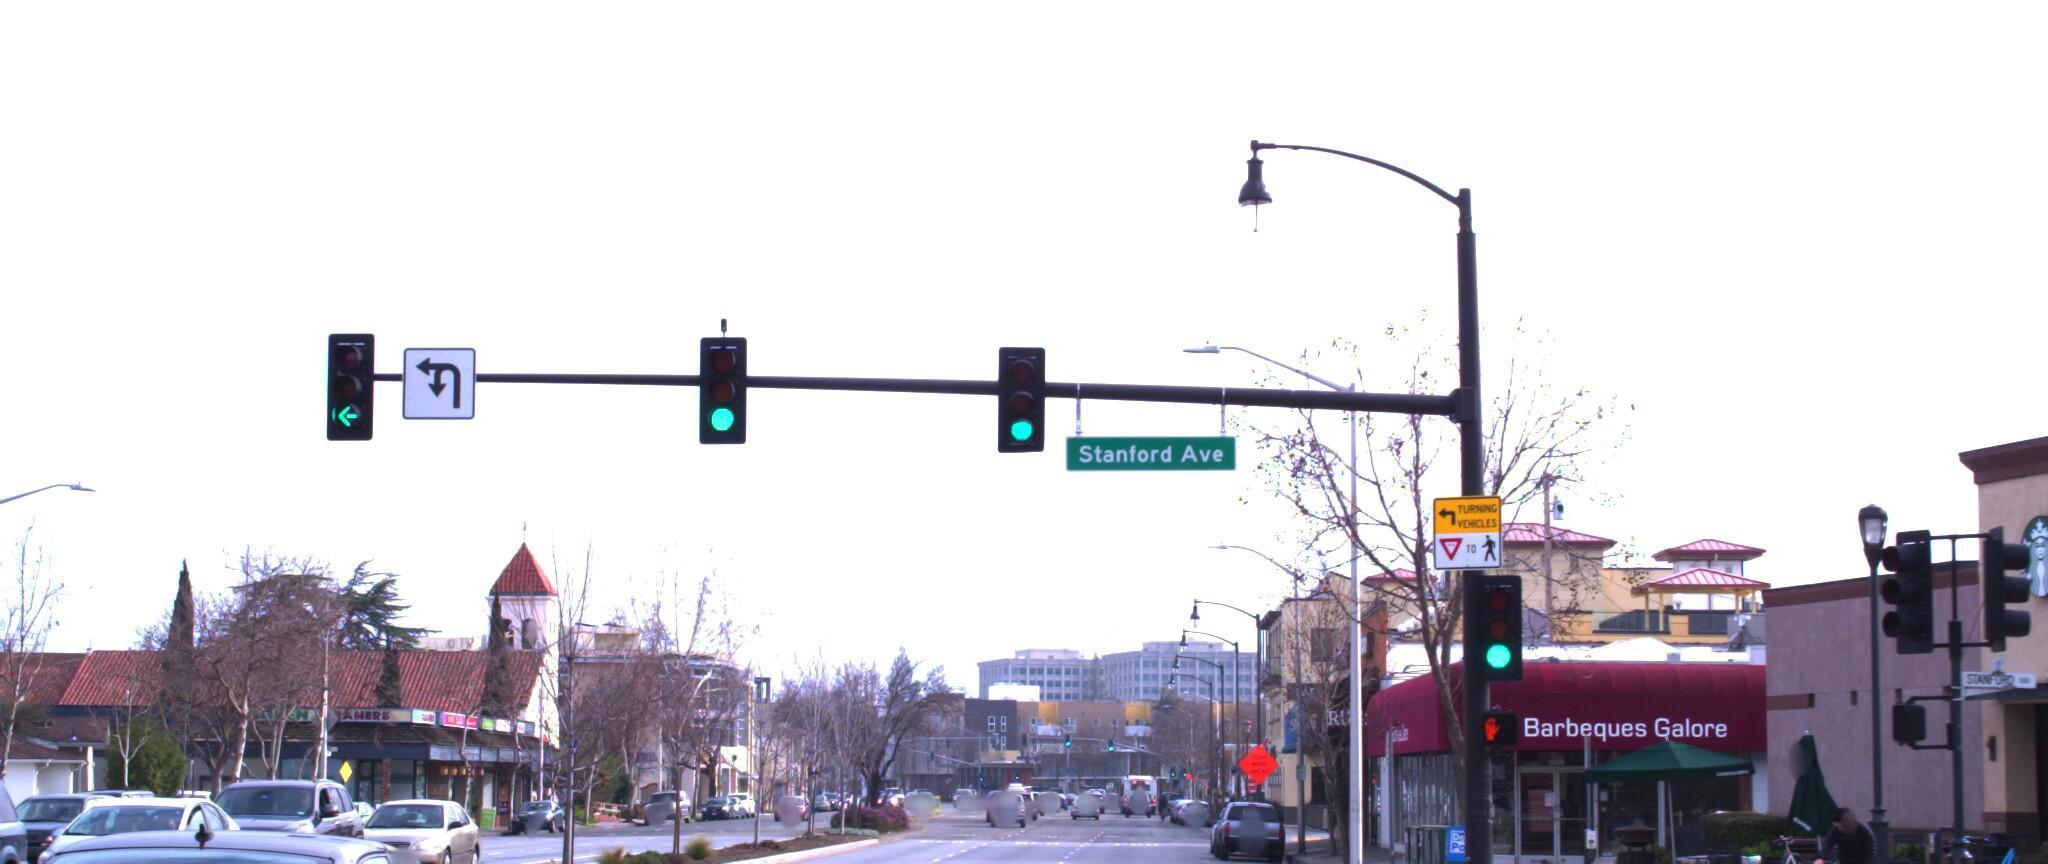bicycle: (1772, 794, 1913, 864), (1676, 817, 1840, 864)
car: (0, 790, 569, 864), (165, 760, 383, 864), (14, 775, 266, 864), (344, 777, 487, 864), (0, 741, 59, 864)
